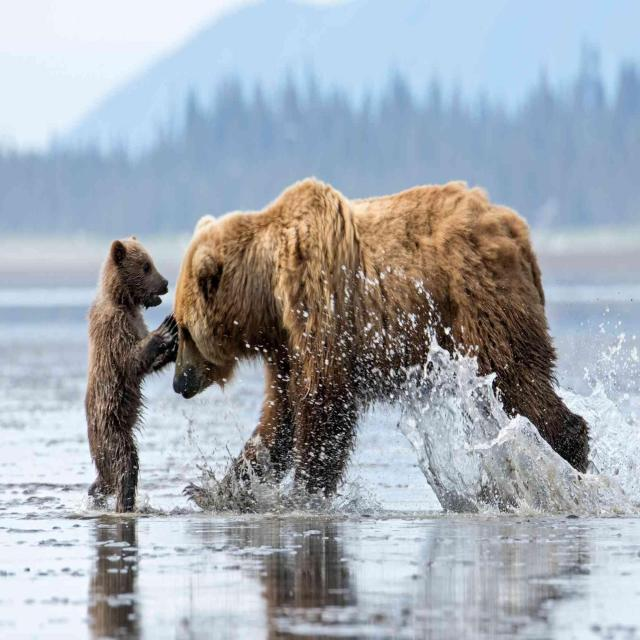Bear: (171, 179, 590, 497), (84, 237, 177, 512)
